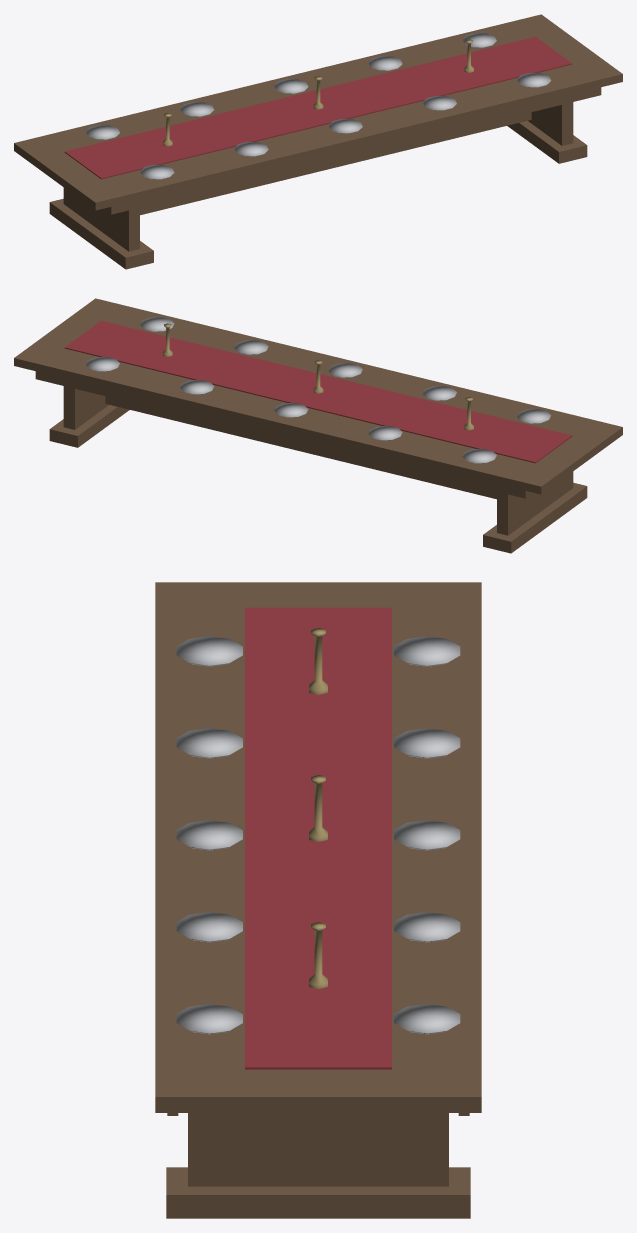
The model's file is DiningTable.fbx.
The picture shows the model from 3 angles, top to bottom: view 1: azimuth 30°, elevation 25°; view 2: azimuth 150°, elevation 25°; view 3: azimuth 270°, elevation 25°; orthographic projection. The views are drawn at different scales.
Parts seen in each view (by area): view 1: DiningTable; view 2: DiningTable; view 3: DiningTable.
Part boxes in pixels (x1=…): DiningTable: x1=14, y1=14, x2=622, y2=269; DiningTable: x1=14, y1=298, x2=622, y2=553; DiningTable: x1=155, y1=582, x2=481, y2=1218.
Bounding box in the file's own units: 5.6 × 1.09 × 1.5.
